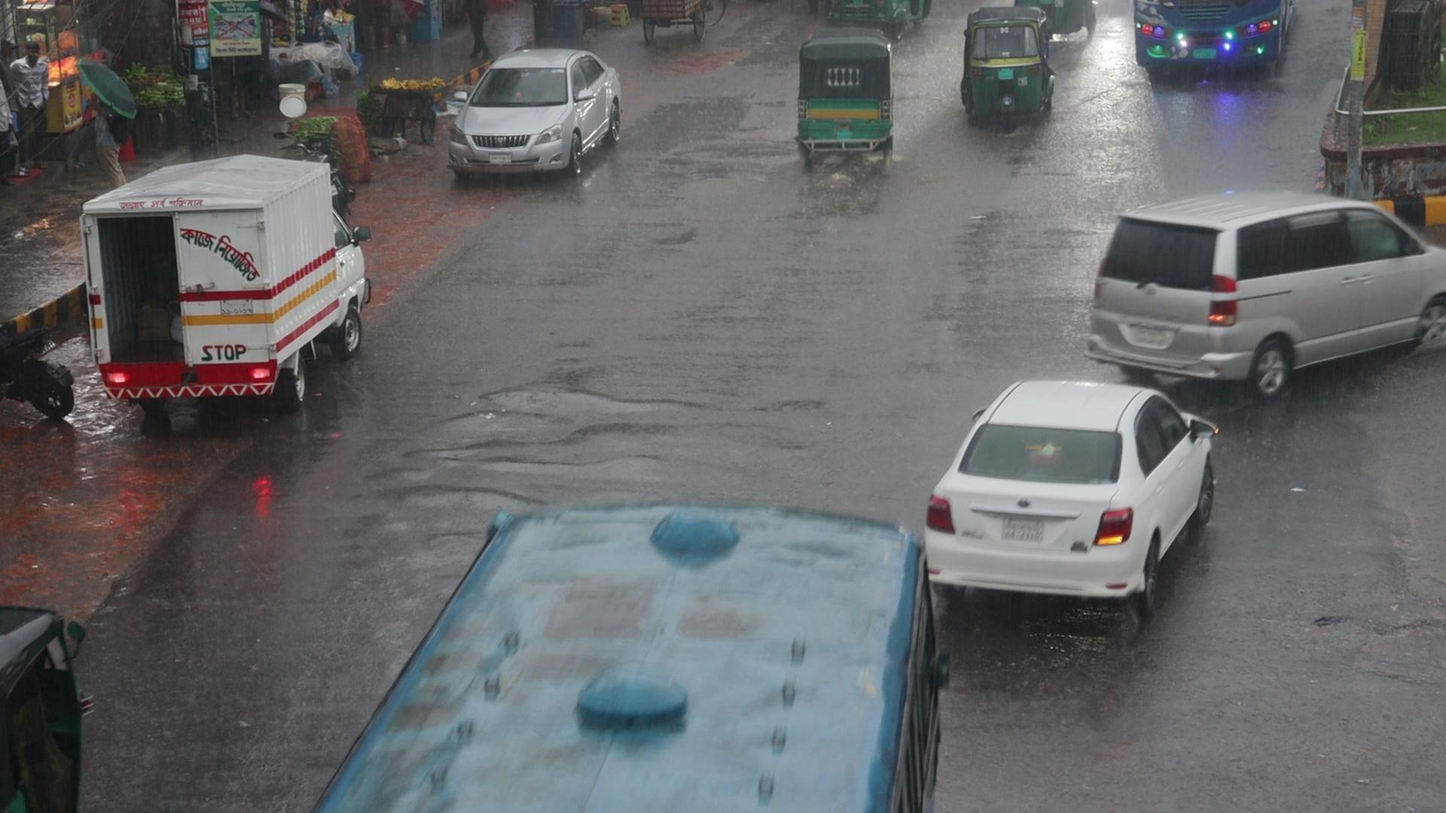Car: (1084, 187, 1446, 395), (925, 376, 1218, 615)
